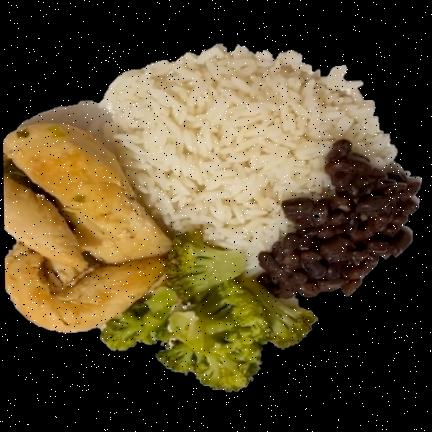beans: (258, 140, 419, 298)
broccoli: (101, 236, 316, 391)
chicken: (4, 124, 170, 332)
rice: (91, 46, 396, 274)
